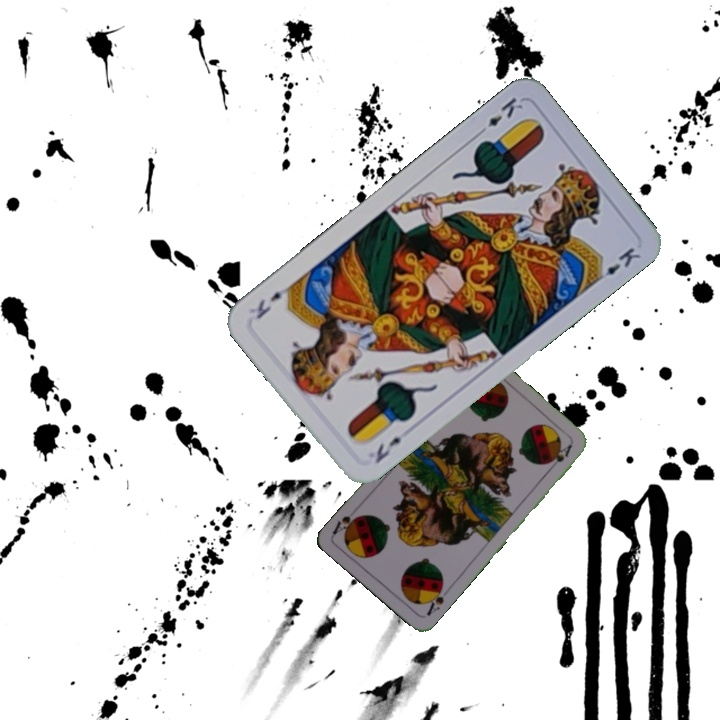EK: (473, 92, 526, 139), (370, 432, 404, 466)
SA: (422, 580, 447, 618)
